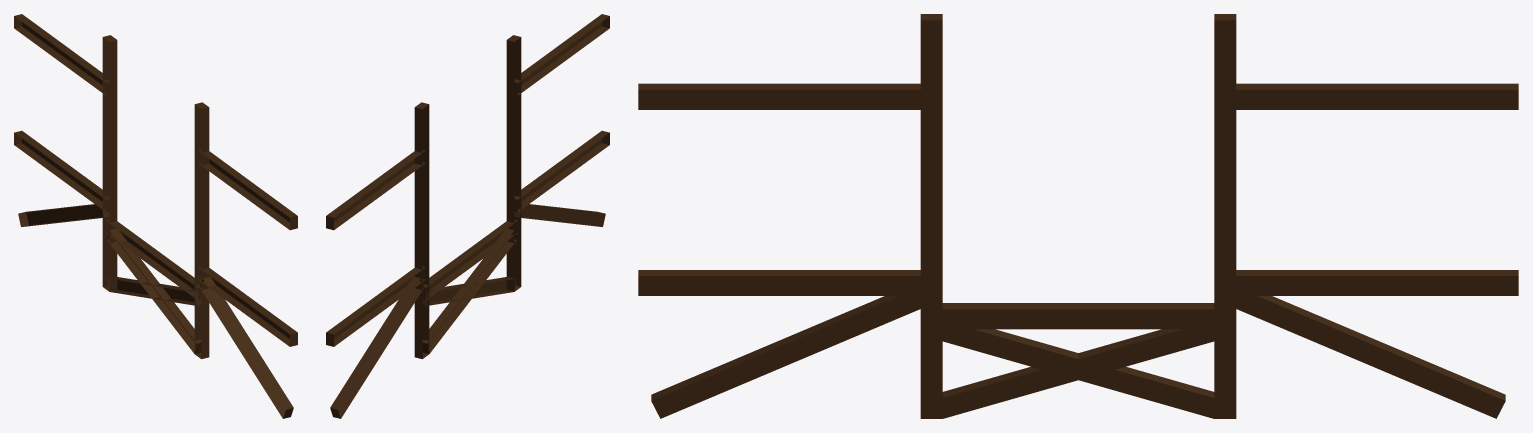
Rendered from Small Side 1.fbx.
3 renders of one model, left to right at view 1: azimuth 30°, elevation 25°; view 2: azimuth 150°, elevation 25°; view 3: azimuth 270°, elevation 25°, orthographic. The views are drawn at different scales.
Parts seen in each view (by area): view 1: House_Small_Side_1_pCube11; view 2: House_Small_Side_1_pCube11; view 3: House_Small_Side_1_pCube11.
Boxes of the visible parts, <box> form: House_Small_Side_1_pCube11: <box>14,14,297,418</box>; House_Small_Side_1_pCube11: <box>326,14,609,418</box>; House_Small_Side_1_pCube11: <box>638,14,1518,418</box>.
Size of the model in its own units: 0.1 by 3 by 6.
